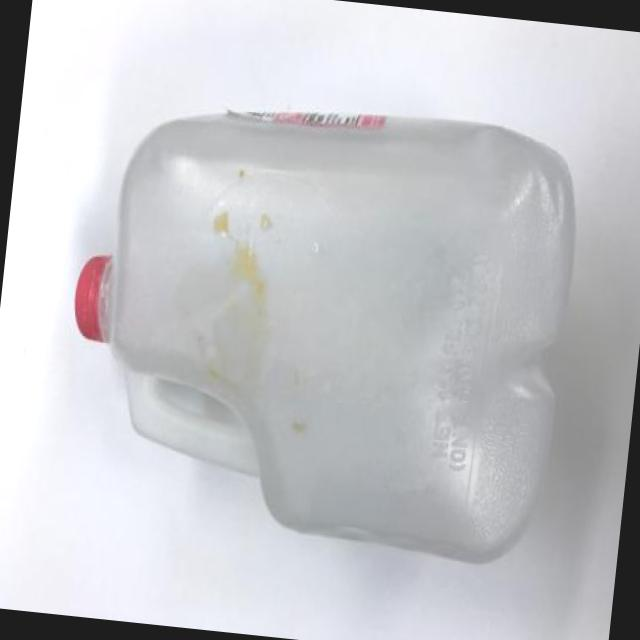Recycle: (51, 88, 588, 572)
